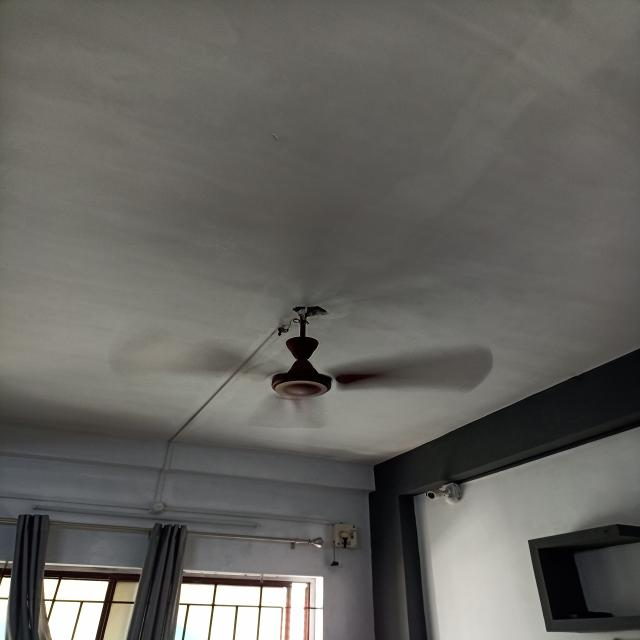fan: (106, 278, 506, 439)
